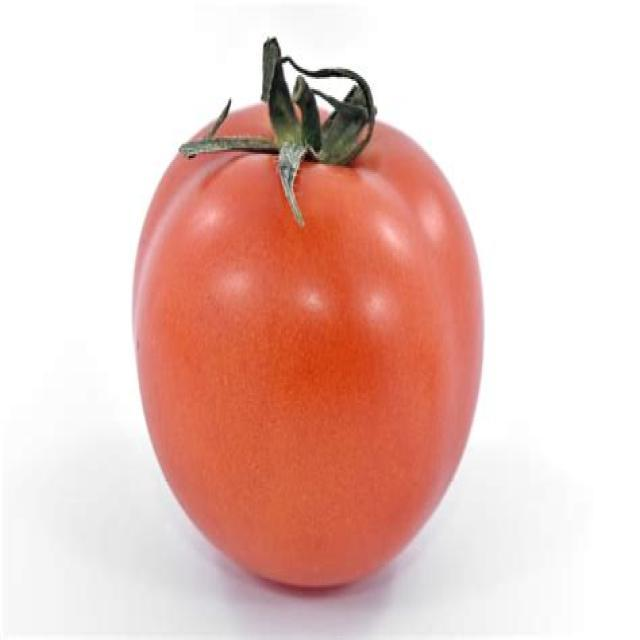Tomato: (129, 41, 487, 596)
